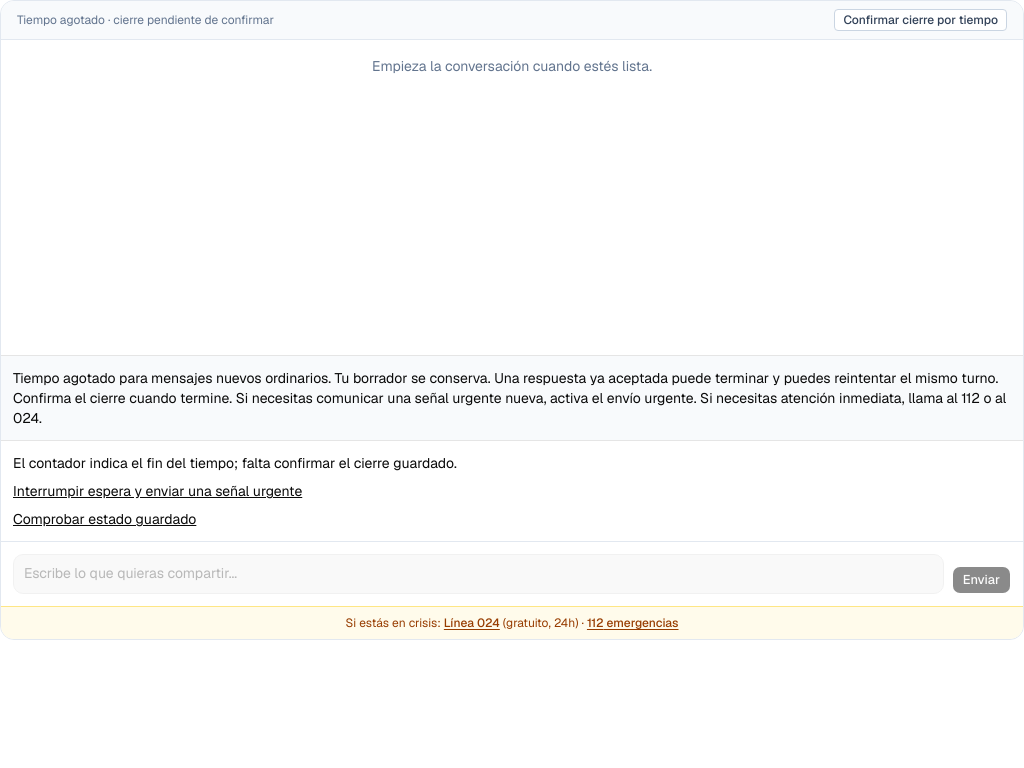
Test case: respects a pending admitted response and a corrected server deadline
Click the button "Confirmar cierre por tiempo". click: (921, 20)
box: [834,9,1007,31]
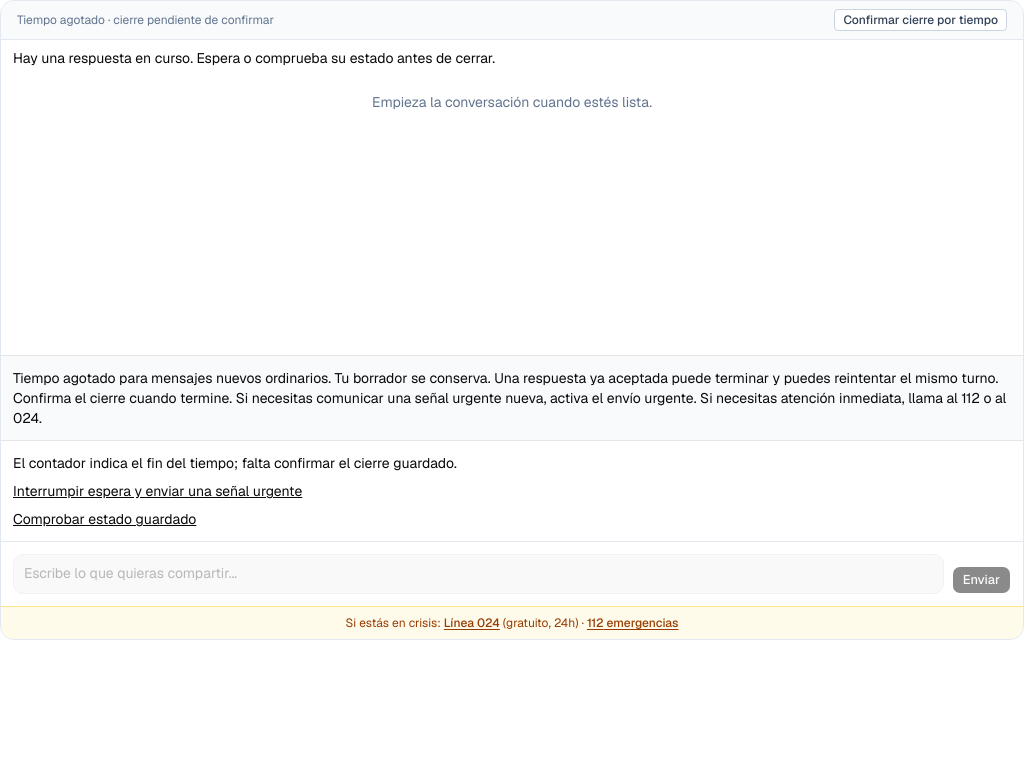
Check: the text "Hay una respuesta en curso. Espera o comprueba su estado antes de cerrar." is shown, box [13,49,495,67]
Click the button "Confirmar cierre por tiempo". click: (921, 20)
box: [834,9,1007,31]
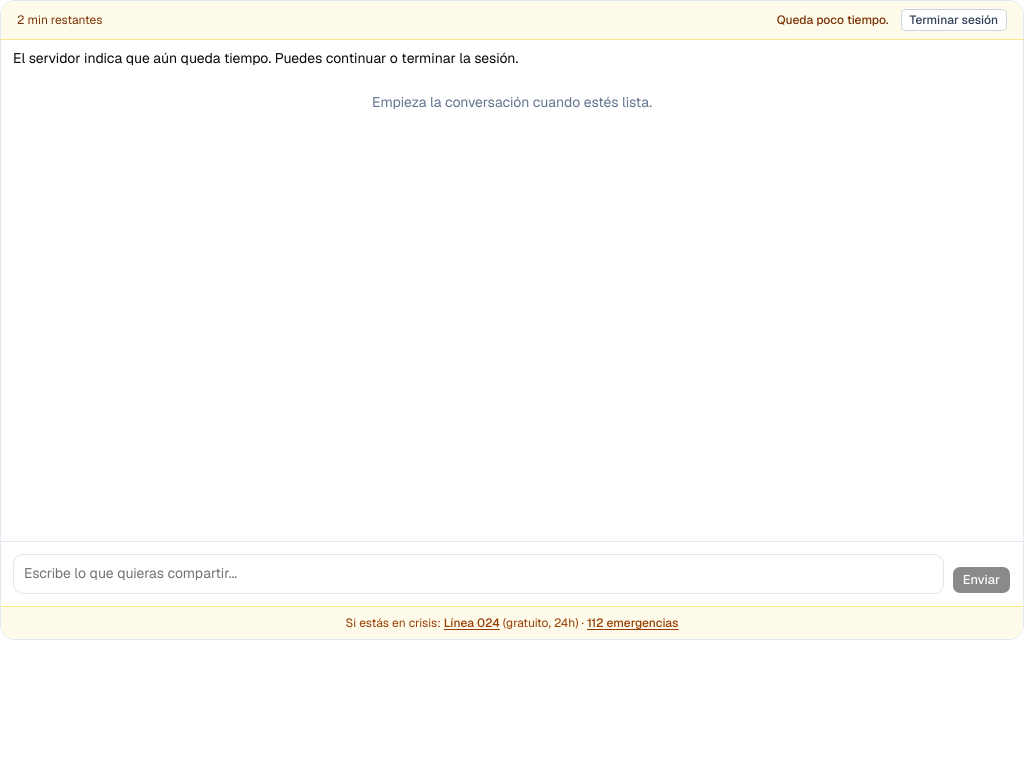
Check: the text "2 min restantes" is shown, box [17,12,102,28]
Check: the button "Terminar sesión" is shown, box [901,9,1007,31]
